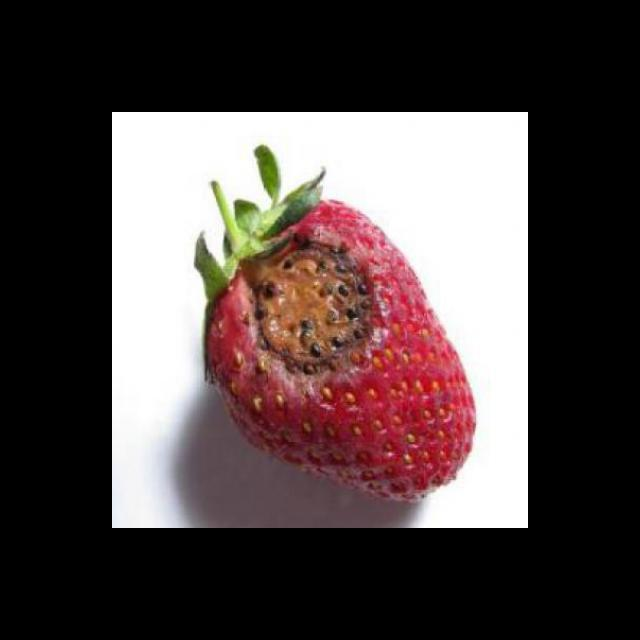Anthracnose Fruit Rot: (230, 221, 392, 398)
